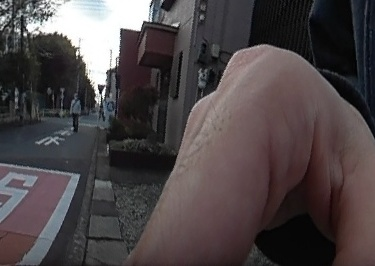person: (70, 92, 83, 135)
